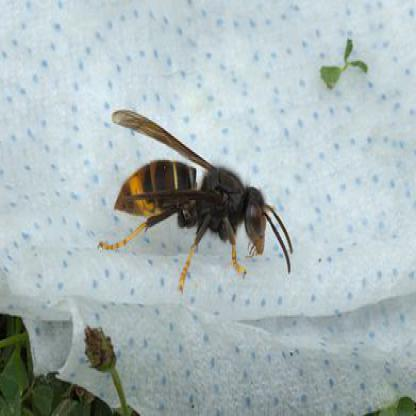Asian Hornet: (91, 111, 294, 289)
